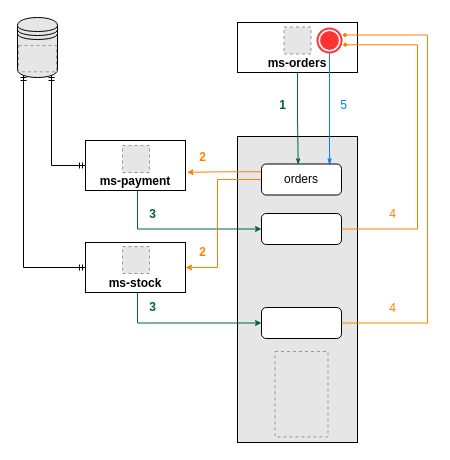
The diagram is 450 pixels wide and 460 high, and some of its shapes have lost their labels. Grey dashed boxes stand in for pictures. The centre of each missing label's shape, as x and y in pixels:
payments: the point at 301,228
stock: the point at 301,322
